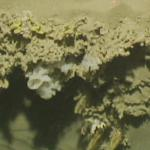alive: (1, 2, 147, 148)
